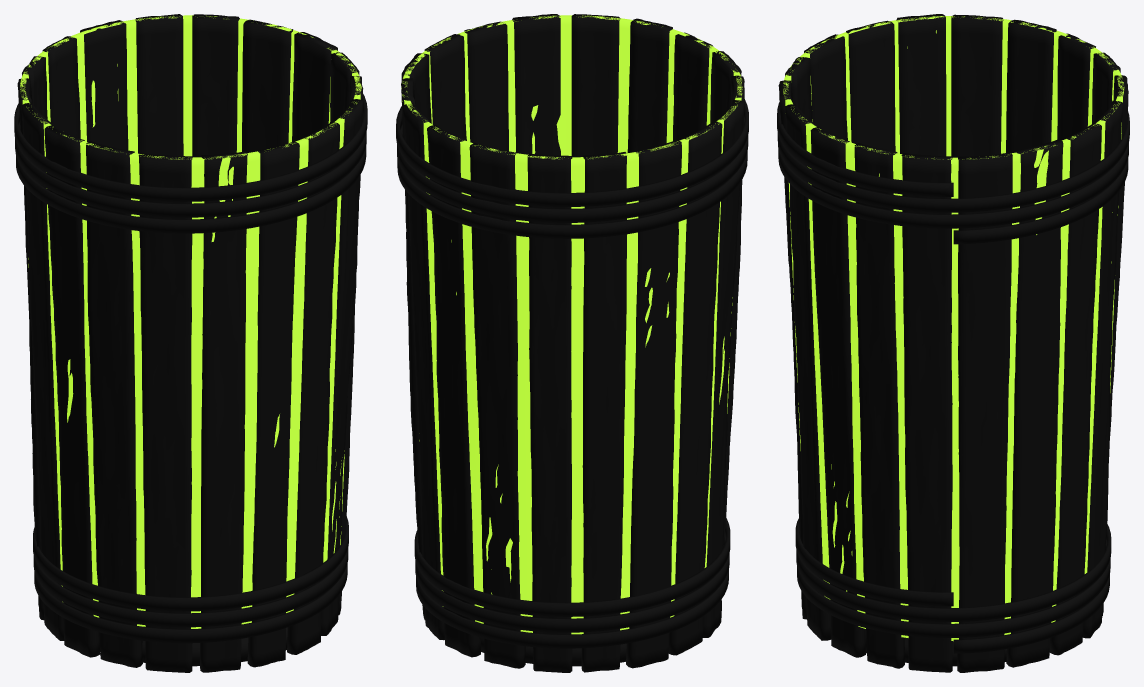
3 views of the same model, side by side, from view 1: azimuth 30°, elevation 25°; view 2: azimuth 150°, elevation 25°; view 3: azimuth 270°, elevation 25° (orthographic).
Parts seen in each view (by area): view 1: mizu, ita_11, ita_10, ita_12, taga_0, ita_13, taga_1, ita_09, ita_14, ita_08, ita_15, ita_03 (+9 smaller); view 2: mizu, ita_05, ita_06, ita_07, ita_04, taga_0, taga_1, ita_08, ita_03, ita_02, ita_09, ita_14 (+10 smaller); view 3: mizu, ita_00, ita_17, ita_01, ita_16, taga_0, taga_1, ita_15, ita_02, ita_14, ita_03, ita_08 (+9 smaller).
Part boxes in pixels (x1,y1,x2,y2): mizu: [20, 15, 361, 628]; ita_11: [138, 153, 192, 672]; ita_10: [86, 141, 142, 667]; ita_12: [200, 151, 247, 672]; taga_0: [14, 94, 367, 233]; ita_13: [247, 141, 299, 667]; taga_1: [33, 516, 348, 643]; ita_09: [44, 125, 100, 657]; ita_14: [287, 122, 339, 654]; ita_08: [22, 102, 64, 640]; ita_15: [321, 99, 362, 635]; ita_03: [135, 14, 183, 155]; mizu: [401, 15, 742, 634]; ita_05: [527, 153, 572, 672]; ita_06: [581, 152, 626, 672]; ita_07: [626, 140, 681, 668]; ita_04: [469, 143, 525, 668]; taga_0: [396, 99, 748, 238]; taga_1: [414, 518, 730, 648]; ita_08: [668, 121, 722, 655]; ita_03: [427, 124, 480, 657]; ita_02: [403, 103, 444, 640]; ita_09: [702, 100, 744, 637]; ita_14: [571, 14, 620, 157]; mizu: [783, 16, 1124, 641]; ita_00: [957, 152, 1012, 672]; ita_17: [901, 153, 952, 672]; ita_01: [1006, 139, 1063, 667]; ita_16: [854, 143, 904, 668]; taga_0: [777, 102, 1129, 244]; taga_1: [795, 518, 1111, 653]; ita_15: [810, 126, 865, 657]; ita_02: [1049, 123, 1101, 655]; ita_14: [785, 104, 831, 640]; ita_03: [1082, 100, 1123, 638]; ita_08: [951, 14, 1003, 157].
Size of the model in its own units: 1.23 by 2 by 1.23.
